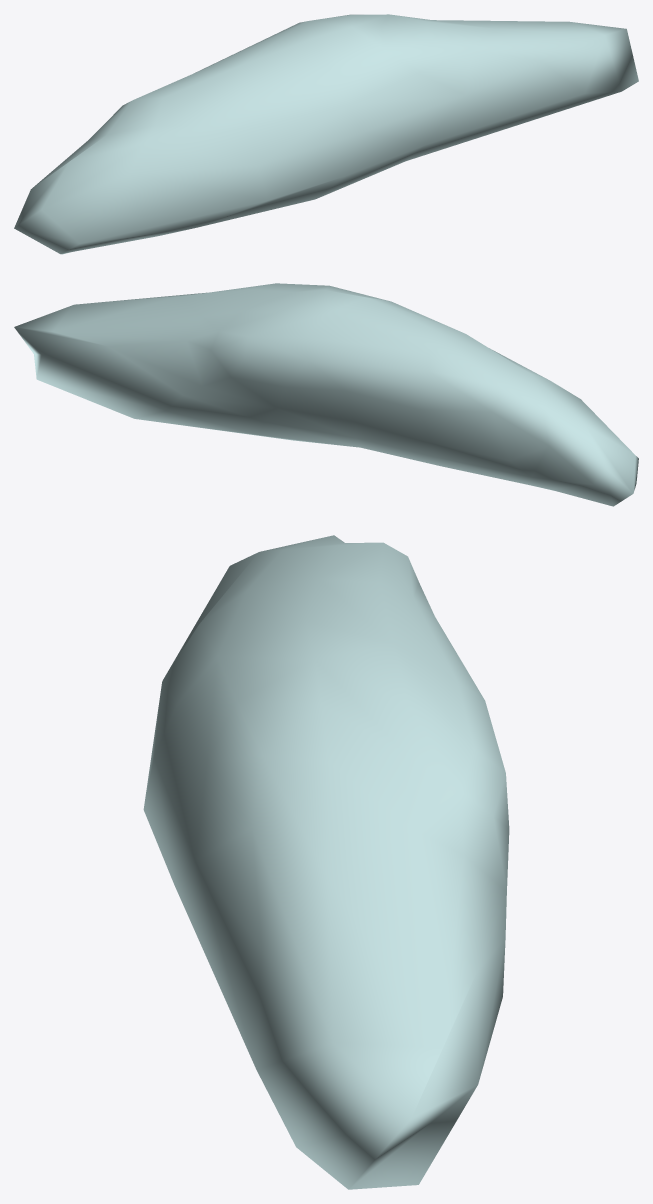
File: atoll_cloud_wisp.fbx
3 renders of one model, top to bottom at view 1: azimuth 30°, elevation 25°; view 2: azimuth 150°, elevation 25°; view 3: azimuth 270°, elevation 25°, orthographic. The views are drawn at different scales.
Visible parts, largest first — view 1: cloud_wisp; view 2: cloud_wisp; view 3: cloud_wisp.
Part boxes in pixels (x1,y1,x2,y2): cloud_wisp: (14, 14, 638, 254); cloud_wisp: (14, 283, 638, 506); cloud_wisp: (143, 535, 509, 1189).
Size of the model in its own units: 6.59 by 1.5 by 1.73.
